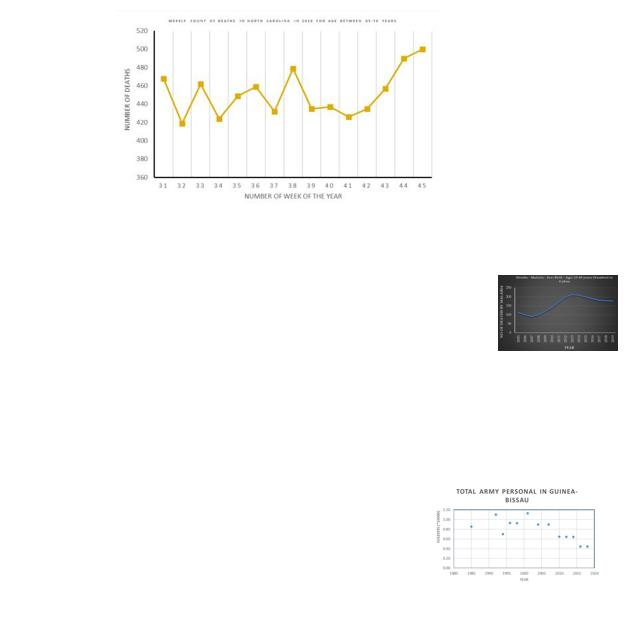Graph: (116, 10, 439, 209), (433, 485, 600, 585), (498, 275, 618, 351)
